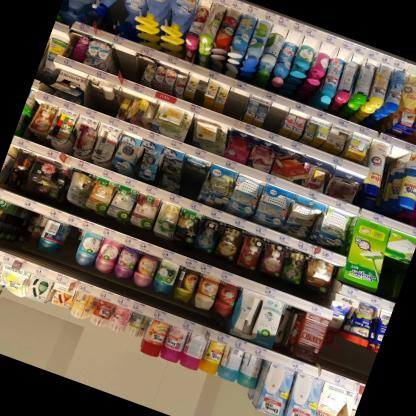empty_space: (56, 222, 83, 260), (222, 85, 251, 119), (262, 100, 289, 134), (112, 42, 135, 75)
